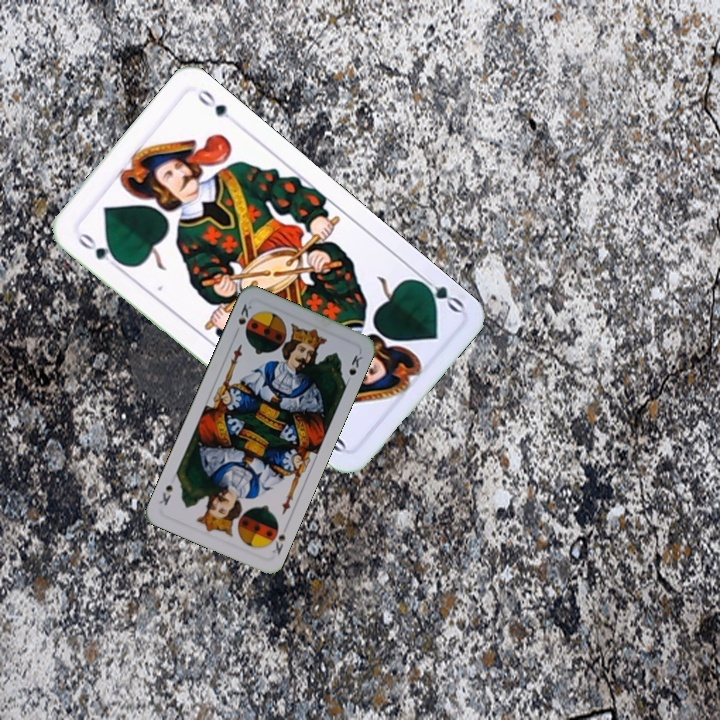GO: (412, 270, 467, 315), (73, 228, 124, 271)
SK: (264, 519, 288, 557), (231, 300, 254, 338)
